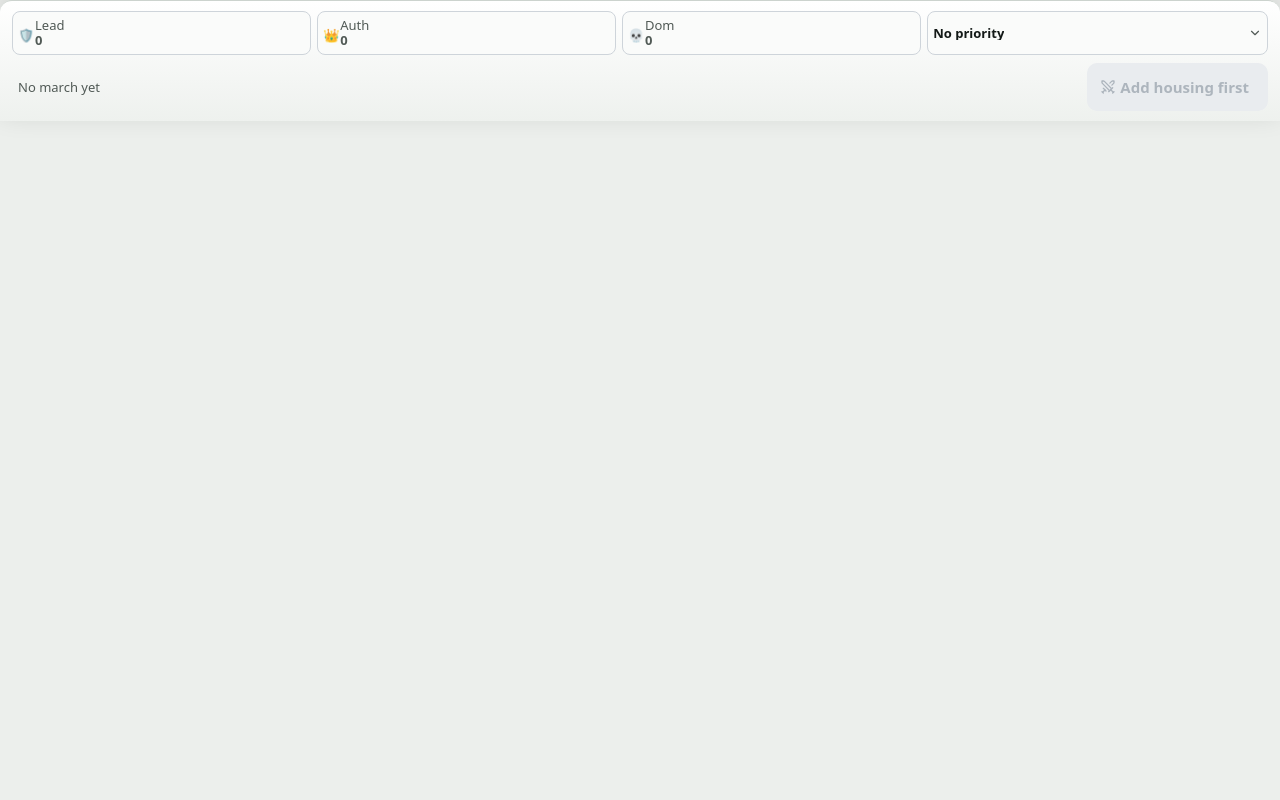
Test: the objective chip carries the objective by name, not a bare chevron
What coordinates should you click on to do the following:
click the button with aria-label "Objective: No priority"
I would click on:
 (969, 33)
Its box is [927,11,1268,55].
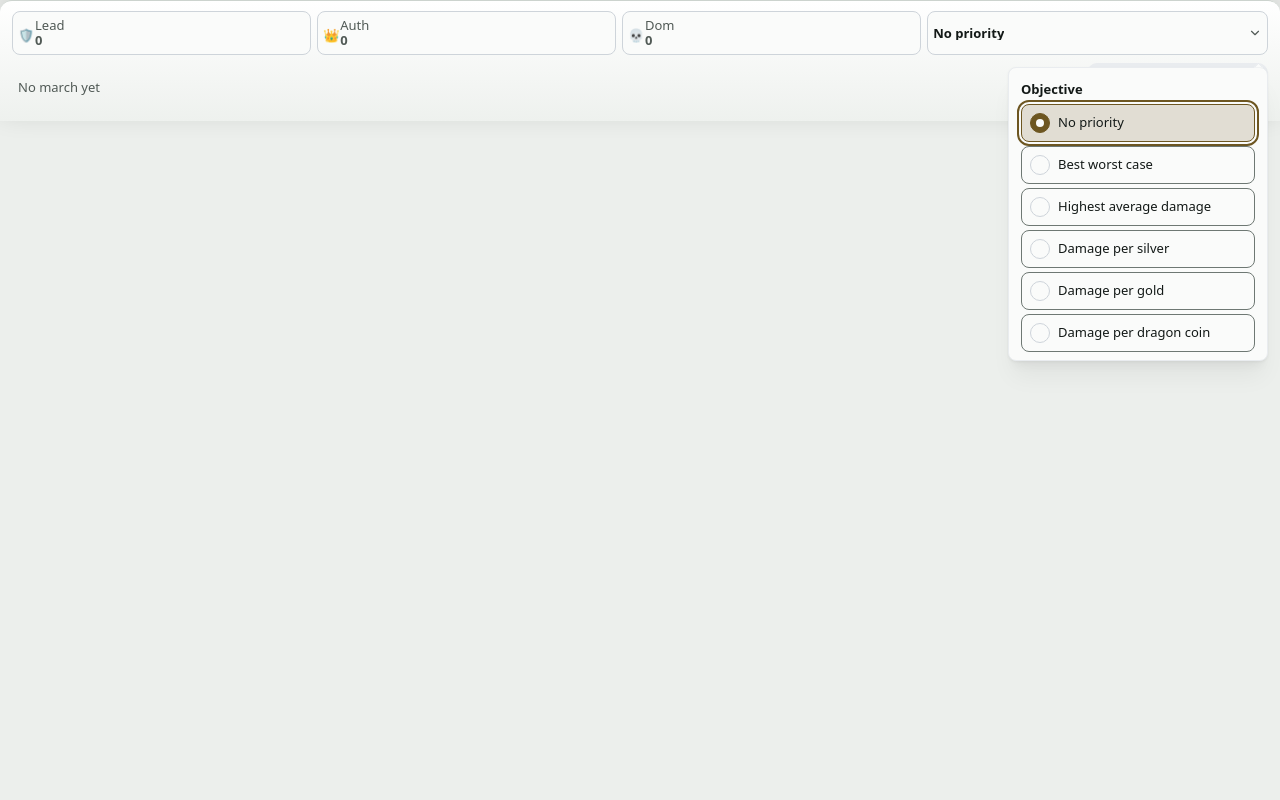
What coordinates should you click on to do the following:
click the radio button labelled "Best worst case"
I would click on:
 (1138, 165)
Its box is [1021,146,1255,184].
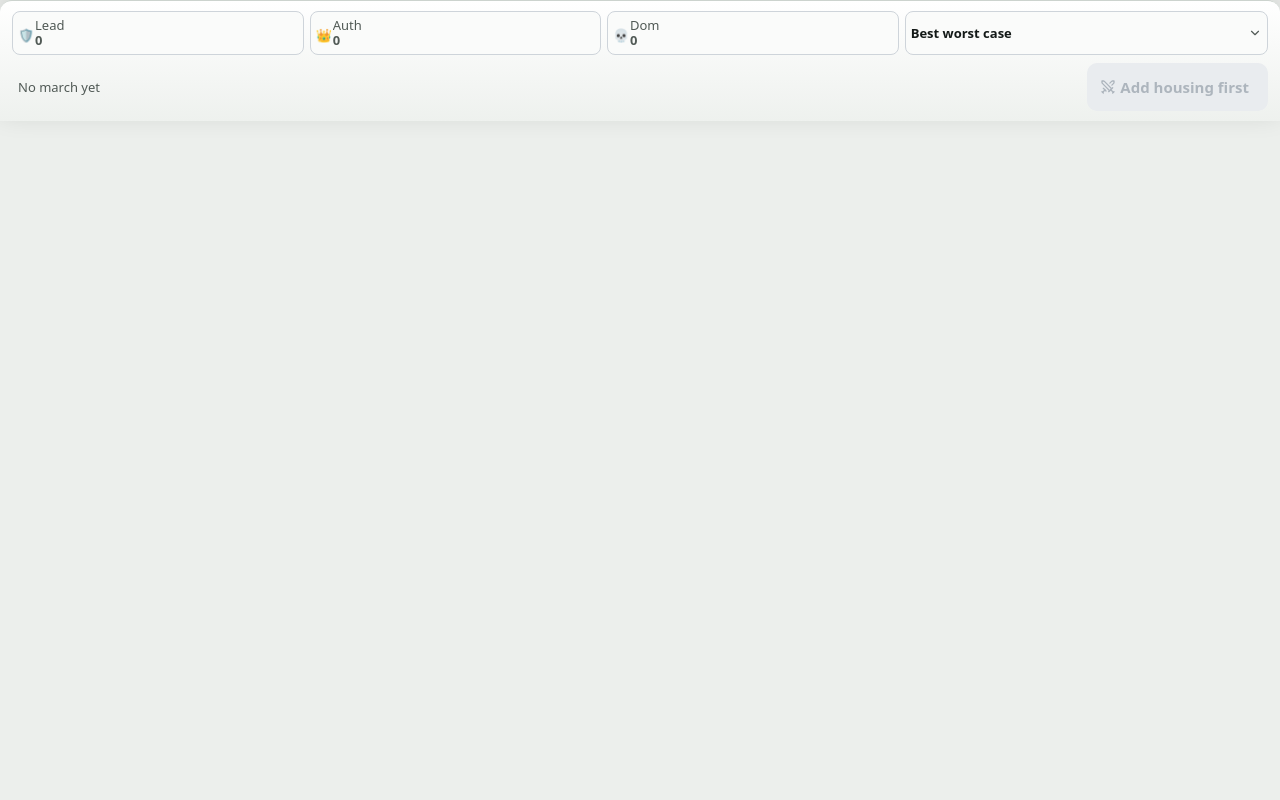
Result: the button with aria-label "Objective: Best worst case" reads "Best worst case" at [905,11,1268,55]
